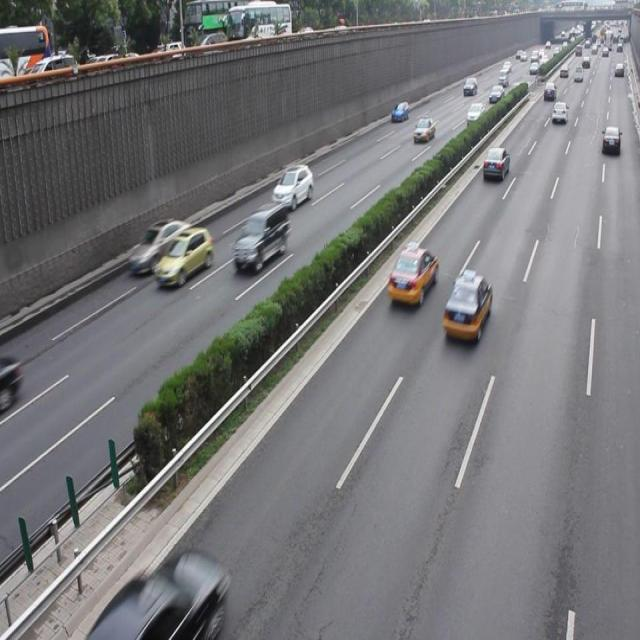car: (97, 548, 226, 640), (232, 198, 289, 274), (128, 216, 193, 276), (154, 225, 212, 288), (442, 270, 490, 343), (386, 244, 437, 308), (272, 162, 313, 211), (482, 144, 508, 182)
